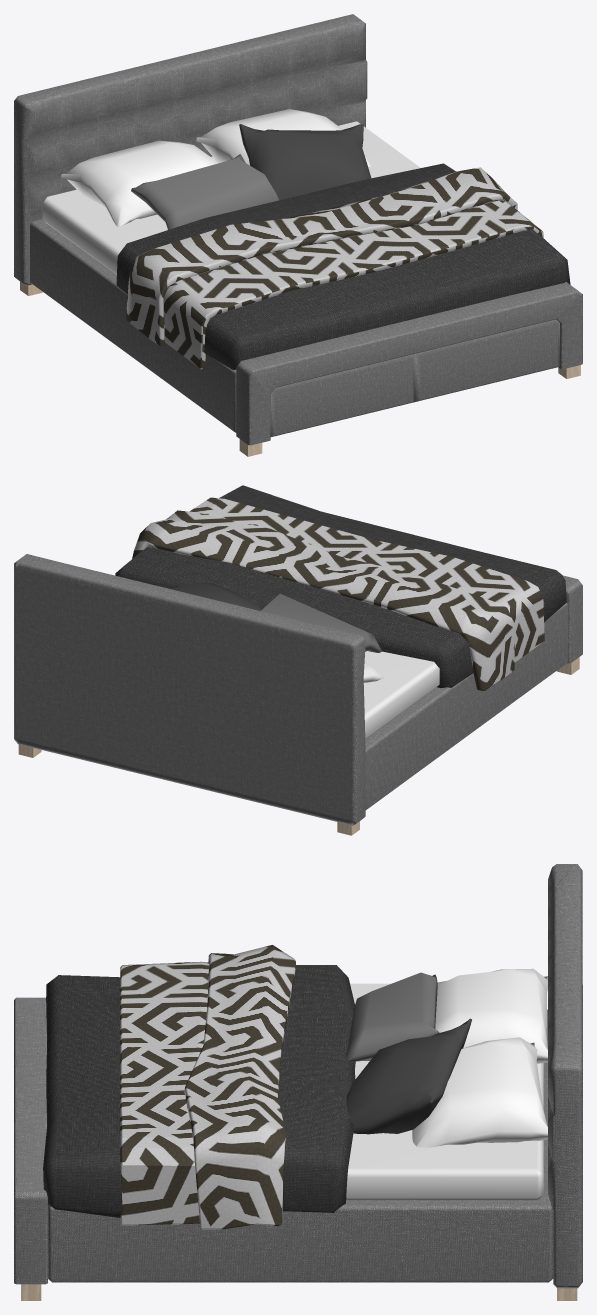
File: bed_007.fbx
The picture shows the model from 3 angles, top to bottom: view 1: azimuth 30°, elevation 25°; view 2: azimuth 150°, elevation 25°; view 3: azimuth 270°, elevation 25°; orthographic projection. The views are drawn at different scales.
Parts seen in each view (by area): view 1: bed_007; view 2: bed_007; view 3: bed_007.
Part boxes in pixels (left/top/right/bottom): bed_007: left=14, top=14, right=582, bottom=456; bed_007: left=14, top=485, right=582, bottom=835; bed_007: left=14, top=864, right=582, bottom=1300.
Size of the model in its own units: 266 by 291 by 134.
